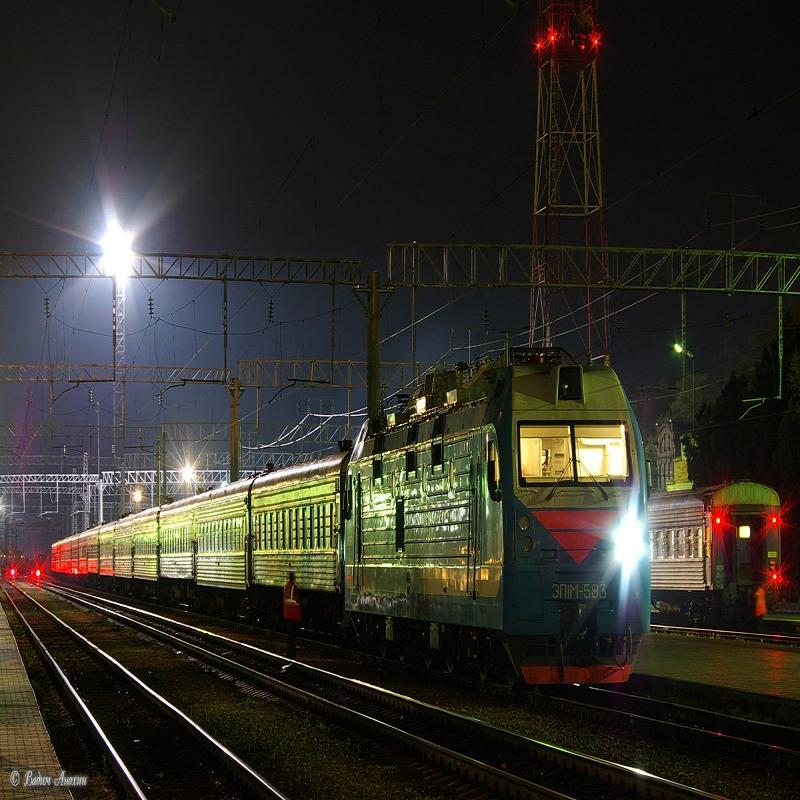train: (344, 344, 662, 715), (244, 427, 357, 638), (195, 462, 258, 621)
